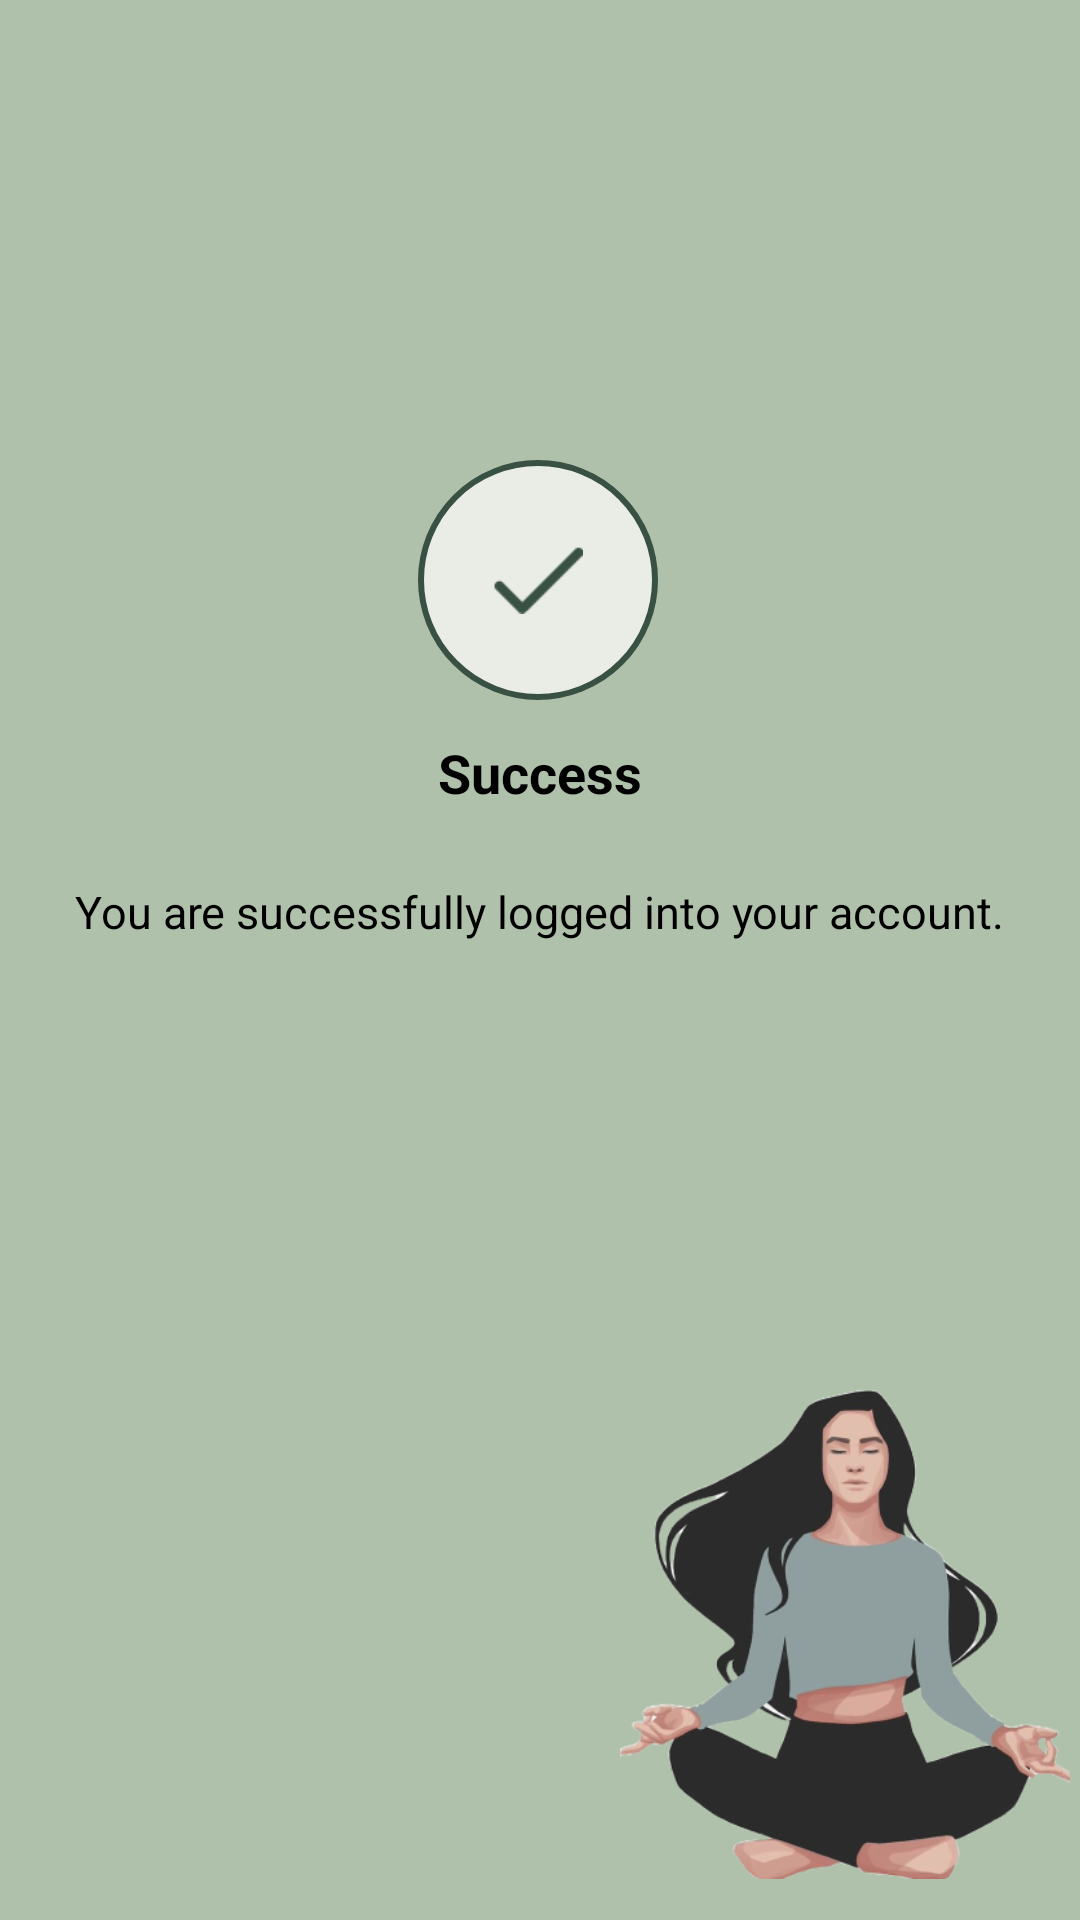

Where to tap for icons on this 1080×1920 app screen, as [x,y]:
tick: [538,580]
